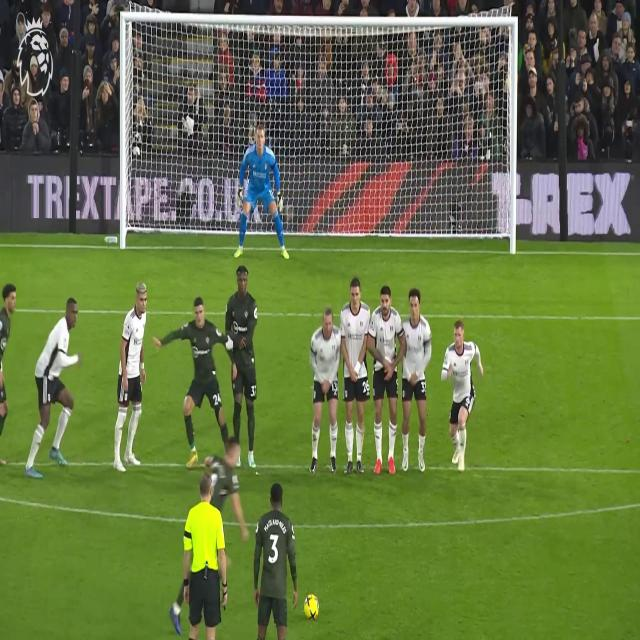soccer-goal: (123, 15, 515, 255)
